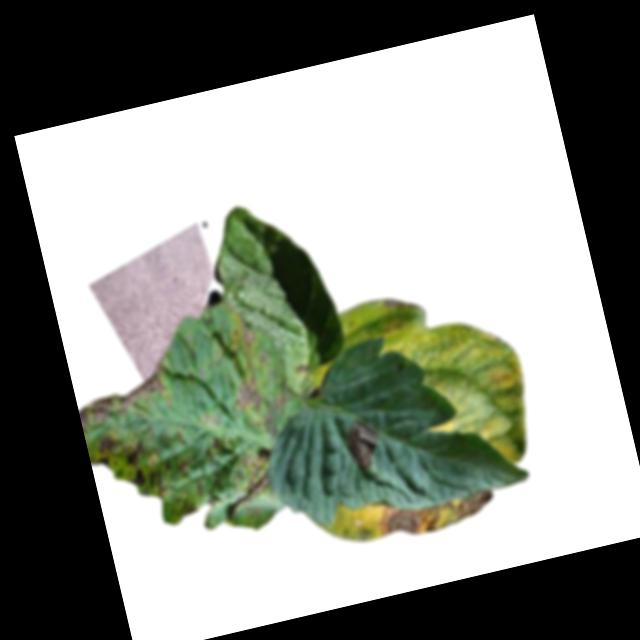Early_blight: (374, 483, 498, 546), (72, 361, 172, 433), (212, 448, 280, 522), (338, 416, 388, 476), (85, 429, 126, 472), (120, 439, 152, 492), (146, 456, 179, 502), (232, 373, 266, 414), (229, 315, 260, 357), (176, 457, 195, 482), (178, 501, 199, 519), (207, 436, 223, 453), (293, 364, 308, 379)
